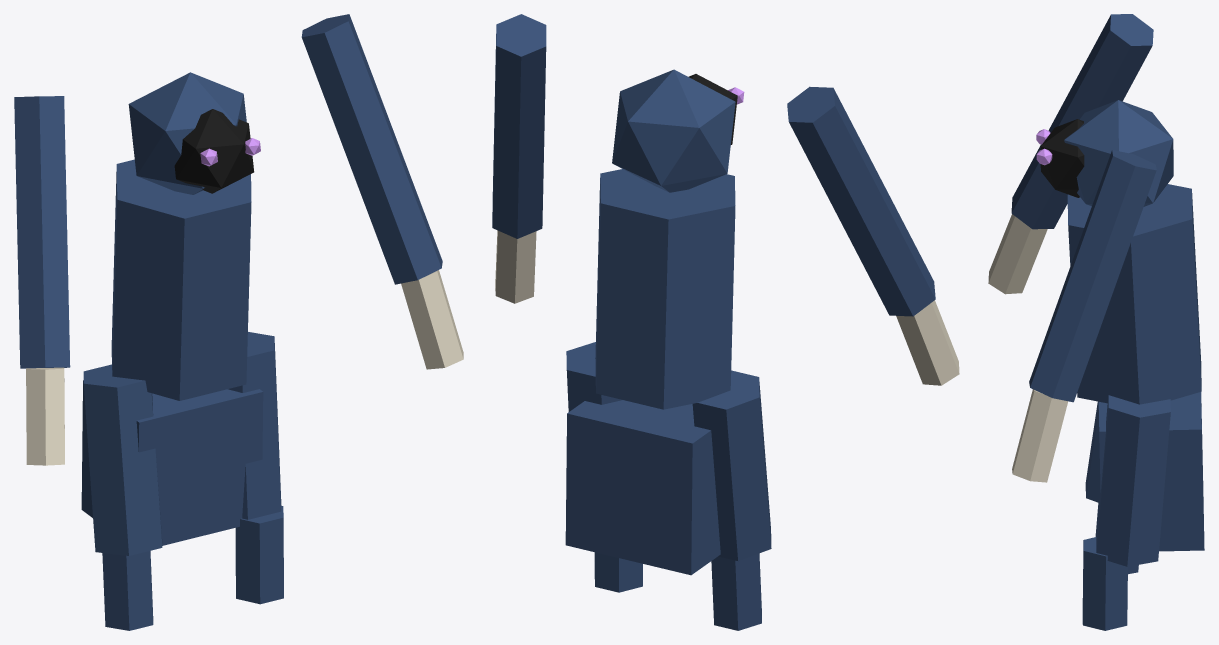
The model's file is npcpose_wraith_idle_04.glb.
3 renders of one model, left to right at view 1: azimuth 30°, elevation 25°; view 2: azimuth 150°, elevation 25°; view 3: azimuth 270°, elevation 25°, orthographic. The views are drawn at different scales.
Parts seen in each view (by area): view 1: npcpose; view 2: npcpose; view 3: npcpose.
Boxes of the visible parts, x1,y1,x2,y2 form: npcpose: [14, 14, 463, 630]; npcpose: [492, 14, 959, 630]; npcpose: [988, 14, 1204, 630].
Size of the model in its own units: 0.9384 by 1.1 by 0.4208.
